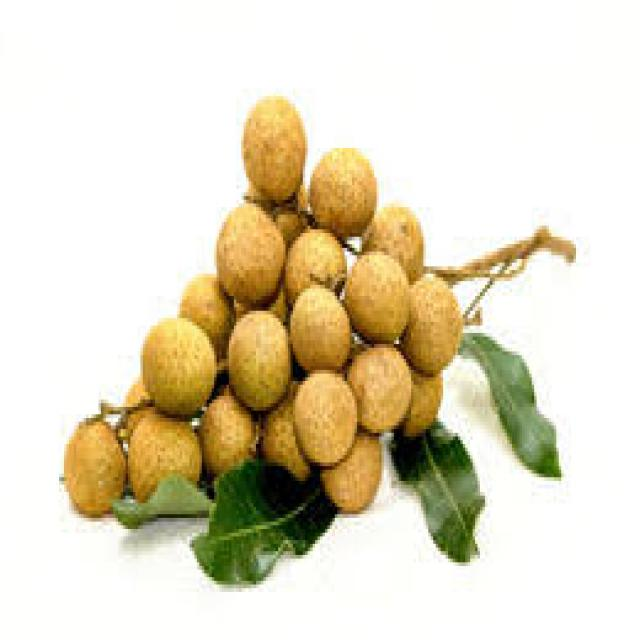organic waste: (190, 452, 340, 588), (458, 329, 559, 474), (389, 403, 477, 562), (128, 403, 202, 522), (136, 314, 217, 410), (59, 411, 126, 522), (217, 200, 283, 303), (310, 144, 377, 237), (224, 307, 288, 400), (349, 248, 408, 348), (293, 367, 354, 462), (241, 96, 298, 196), (408, 266, 458, 370), (259, 381, 310, 481), (322, 422, 382, 507), (347, 340, 406, 422), (290, 278, 344, 367), (283, 222, 342, 300), (204, 388, 253, 474), (359, 204, 424, 266), (180, 274, 236, 340), (241, 178, 305, 233), (406, 362, 441, 437), (123, 377, 150, 411)
